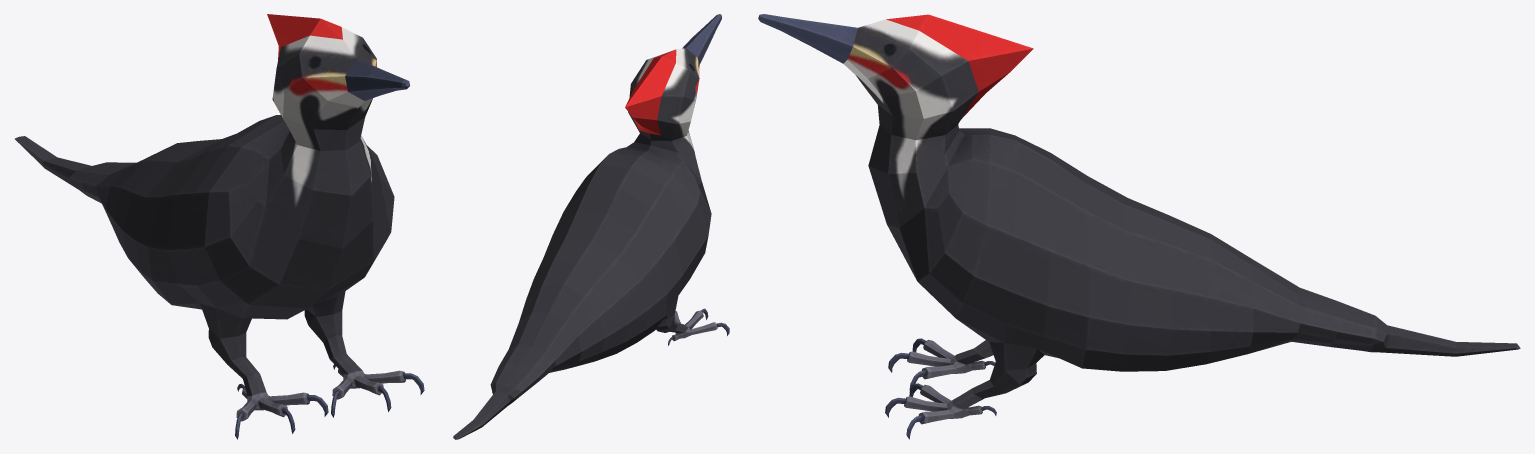
File: 8-xKRYwdgmL.glb
3 renders of one model, left to right at view 1: azimuth 30°, elevation 25°; view 2: azimuth 150°, elevation 25°; view 3: azimuth 270°, elevation 25°, orthographic. The views are drawn at different scales.
Visible parts, largest first — view 1: Woodpecker_mesh; view 2: Woodpecker_mesh; view 3: Woodpecker_mesh.
Part boxes in pixels (bbox=[...]): Woodpecker_mesh: bbox=[15, 14, 424, 439]; Woodpecker_mesh: bbox=[453, 14, 729, 439]; Woodpecker_mesh: bbox=[758, 14, 1520, 439].
Bounding box in the file's own units: 0.4919 × 0.9999 × 1.79.
Materials: 1 (1 with a texture image).
